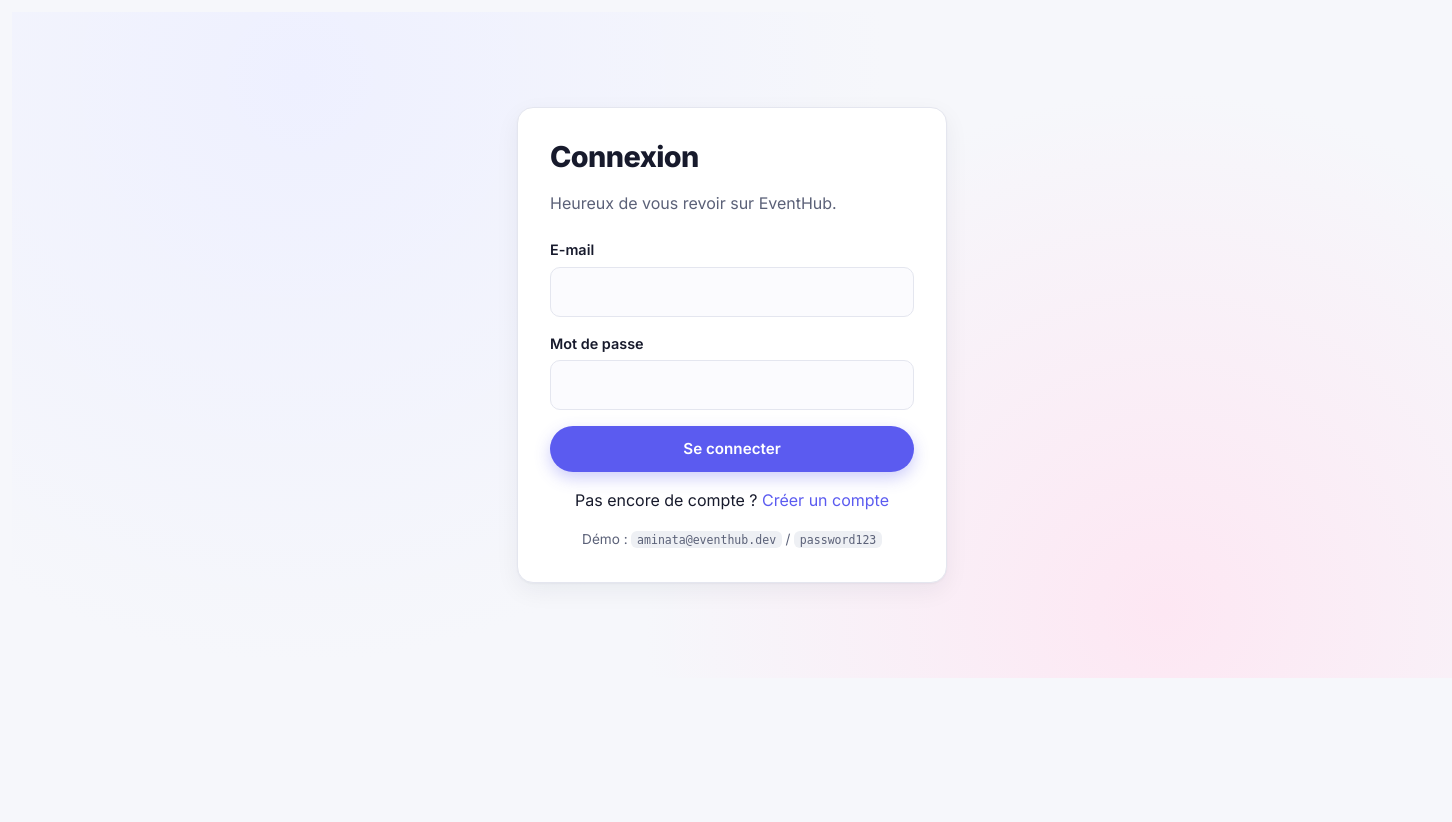
Test: LoginPage › connecte puis redirige vers le tableau de bord
The width and height of the screenshot is (1452, 822).
In the field labelled "E-mail": x=732, y=292 [550, 267, 914, 317], type "aminata@eventhub.dev"
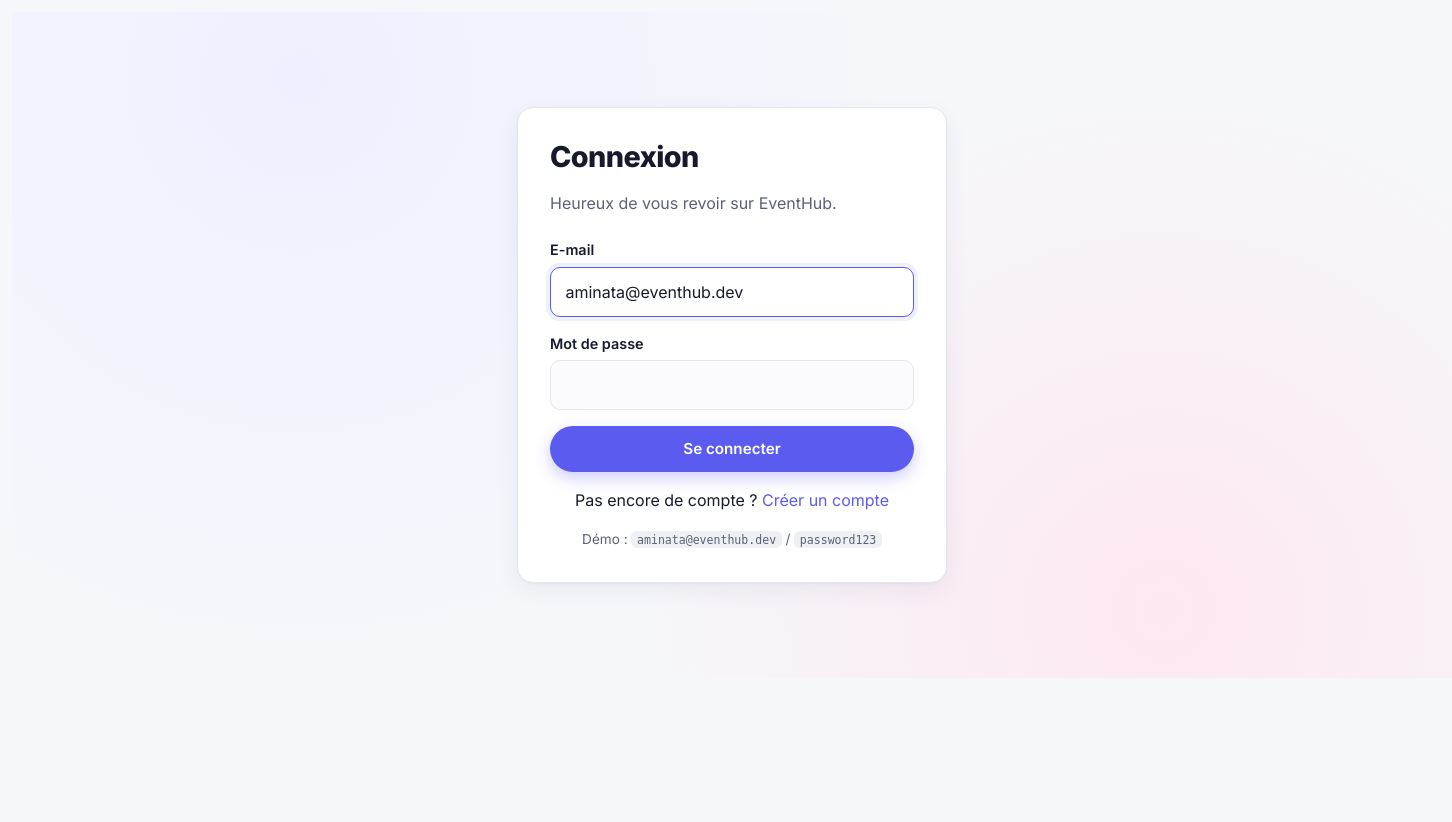
In the password field labelled "Mot de passe": x=732, y=385 [550, 360, 914, 410], type "password123"
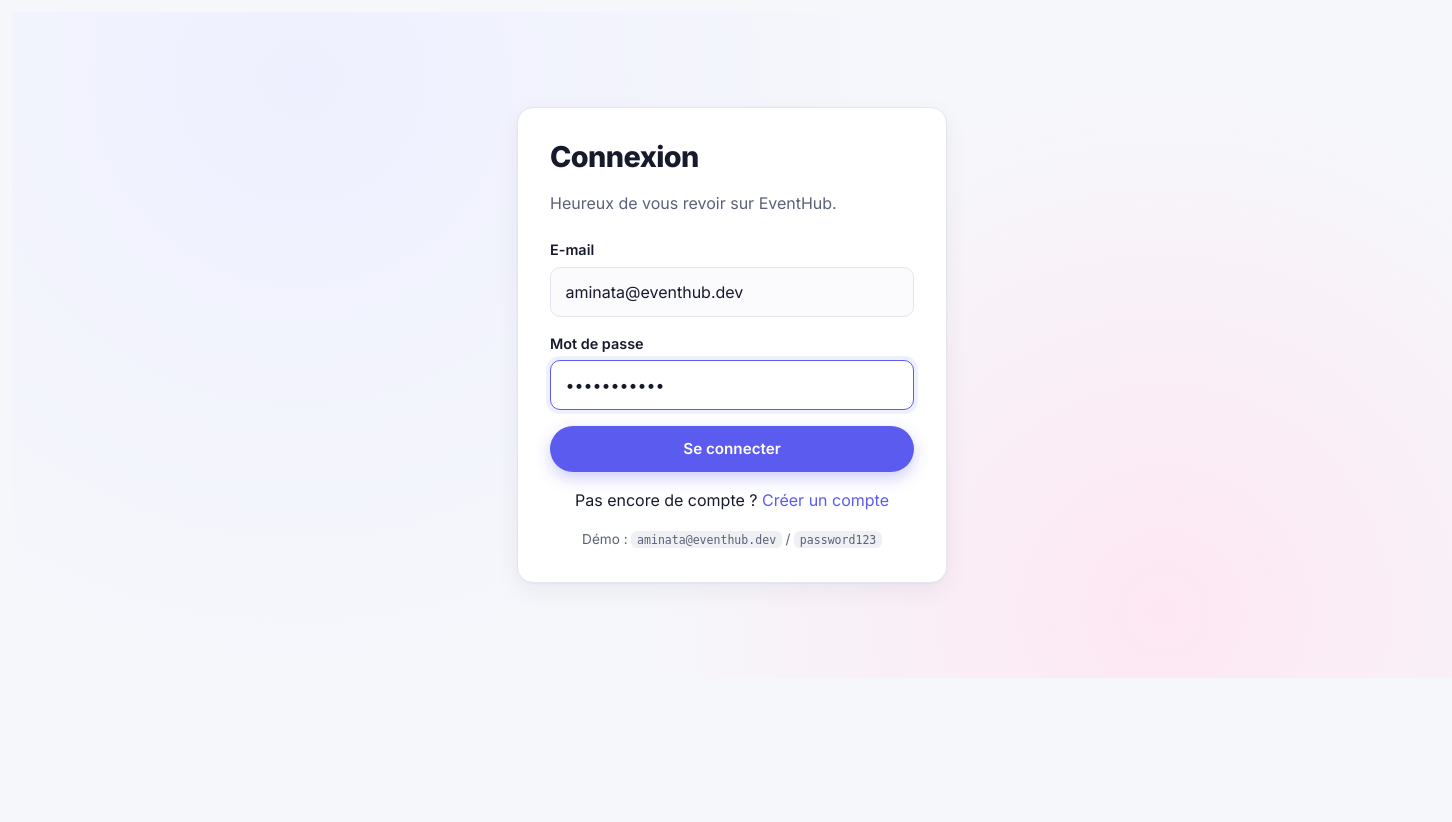
Click the button "Se connecter": x=732, y=449 [550, 426, 914, 472]
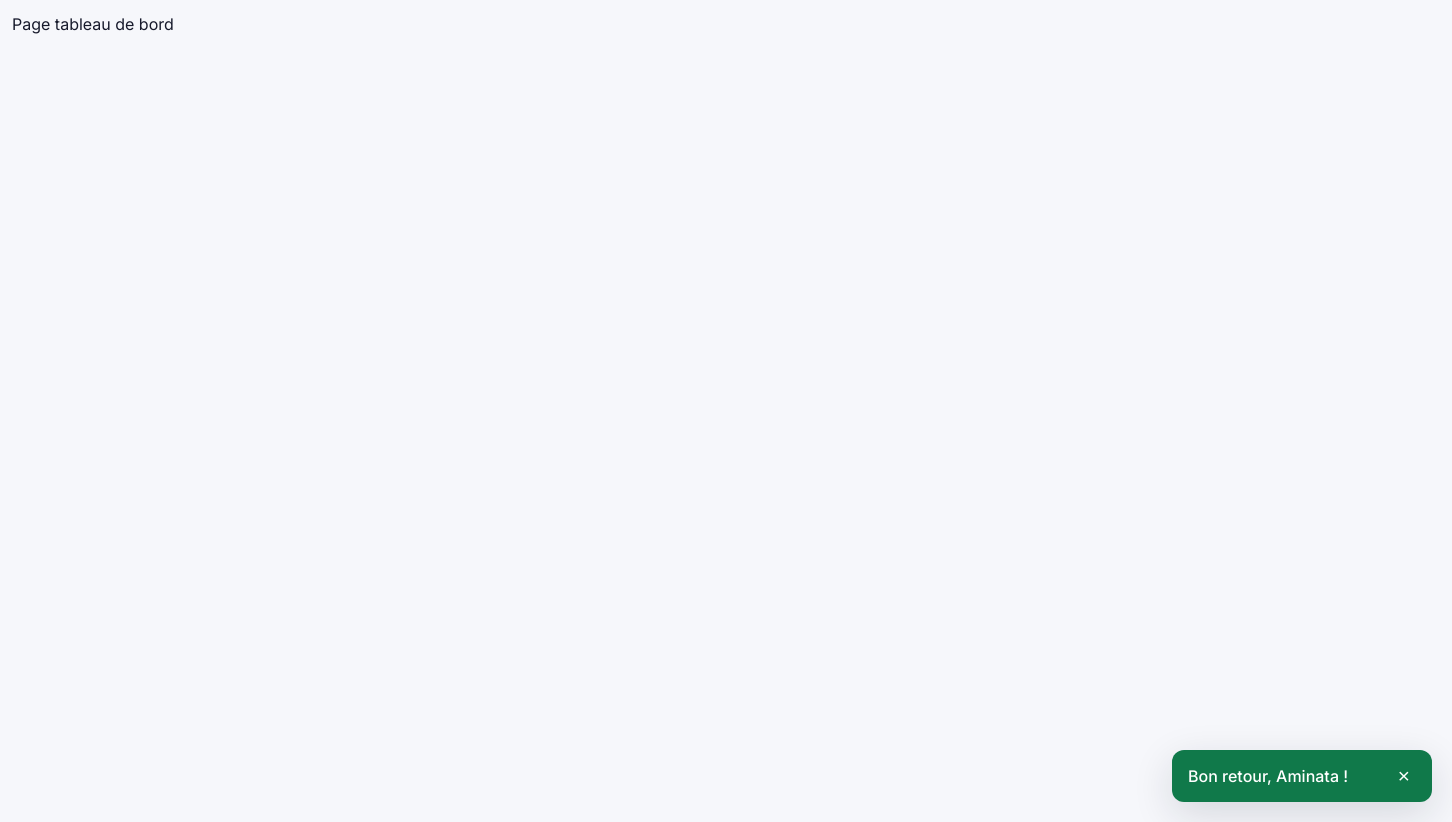
Now the text "Page tableau de bord" is shown, box [12, 14, 174, 34]
